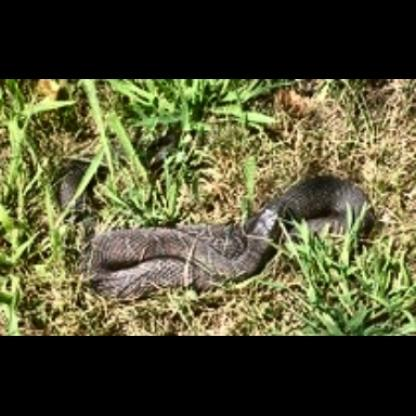Snake: (56, 162, 378, 298)
